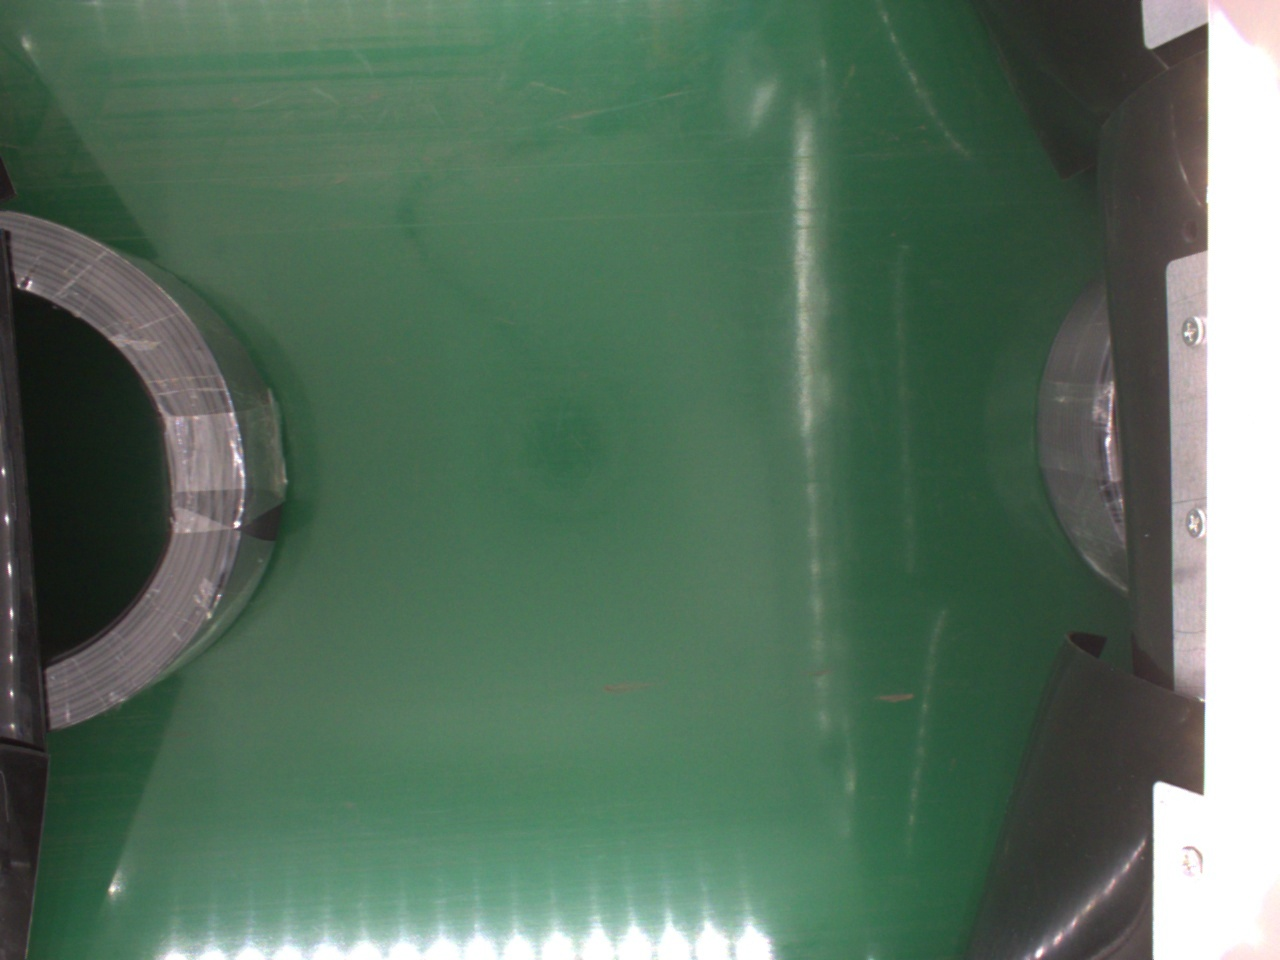black: (2, 208, 290, 731)
